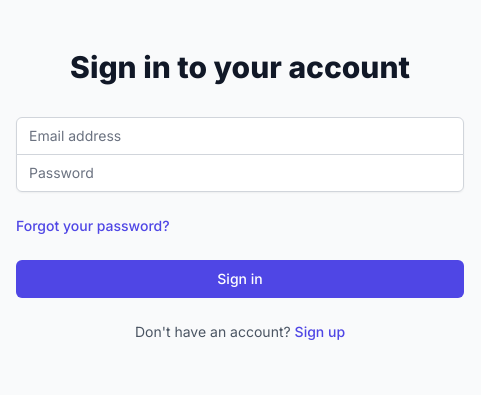
Test: SignIn Page › Form submission › clears previous error message on new submission
The image size is (481, 395).
First submission
Type "test@example.com" into the field labelled "Email address" at point(240, 136), box [16,116,464,154]
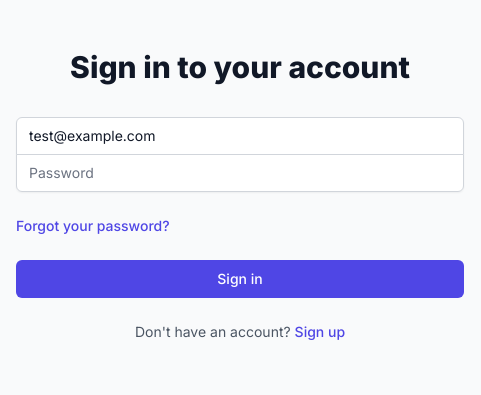
Type "password123" into the password field labelled "Password" at point(240, 172), box [16,154,464,192]
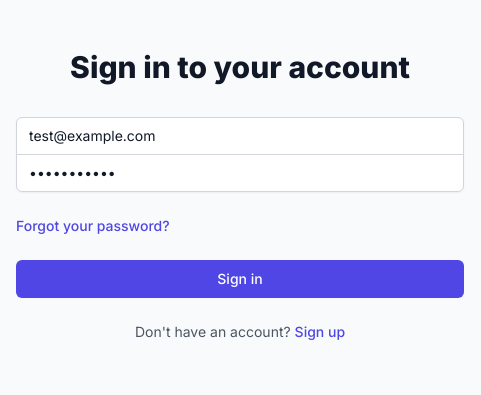
Click the button "Sign in" at point(240, 278), box [16,260,464,298]
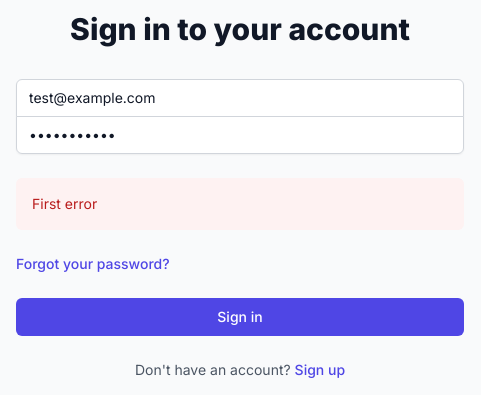
Check: the text "First error" is shown, box [32,194,97,212]
Second submission
Click the button "Sign in" at point(240, 316), box [16,298,464,336]
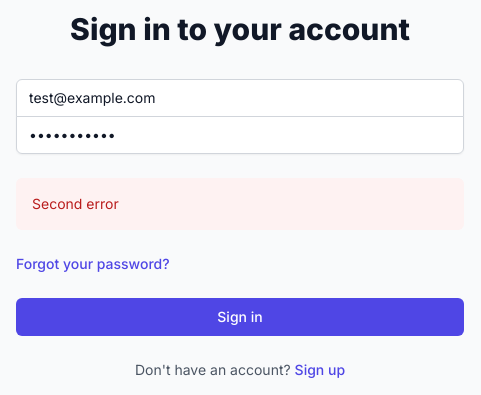
Check: the text "Second error" is shown, box [32,194,119,212]
Check: the text "First error" is gone
